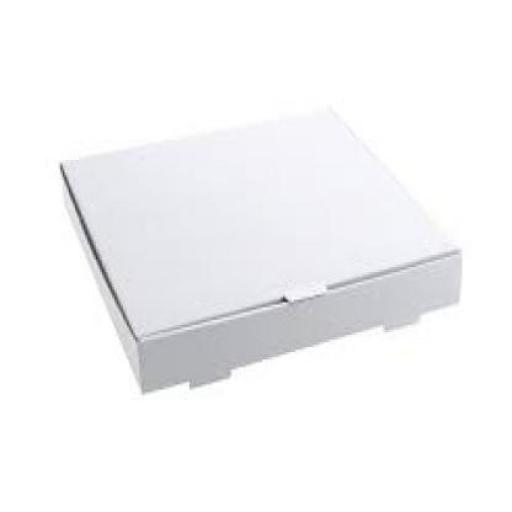cardboard: (63, 107, 464, 393)
